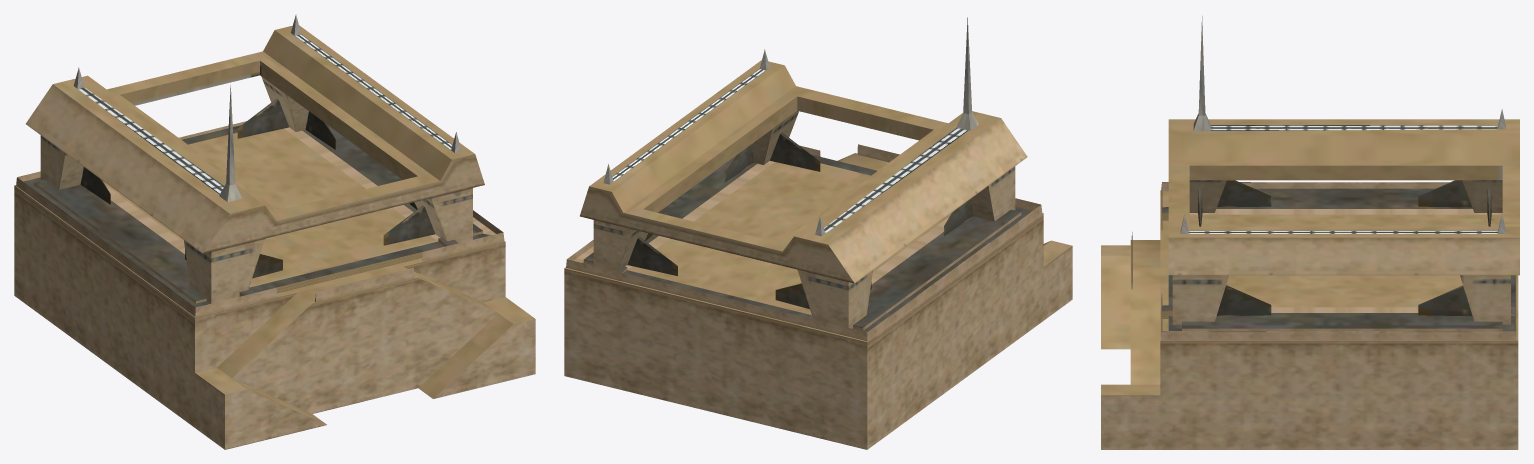
The model's file is ply_tato_shuttleport_s01_l2.fbx.
3 views of the same model, side by side, from view 1: azimuth 30°, elevation 25°; view 2: azimuth 150°, elevation 25°; view 3: azimuth 270°, elevation 25° (orthographic). The views are drawn at different scales.
Visible parts, largest first — view 1: mesh_node; view 2: mesh_node; view 3: mesh_node.
Part boxes in pixels (x1=…): mesh_node: x1=14, y1=14, x2=535, y2=449; mesh_node: x1=564, y1=17, x2=1072, y2=449; mesh_node: x1=1101, y1=16, x2=1519, y2=449.
Size of the model in its own units: 31.92 by 31.06 by 37.63.
